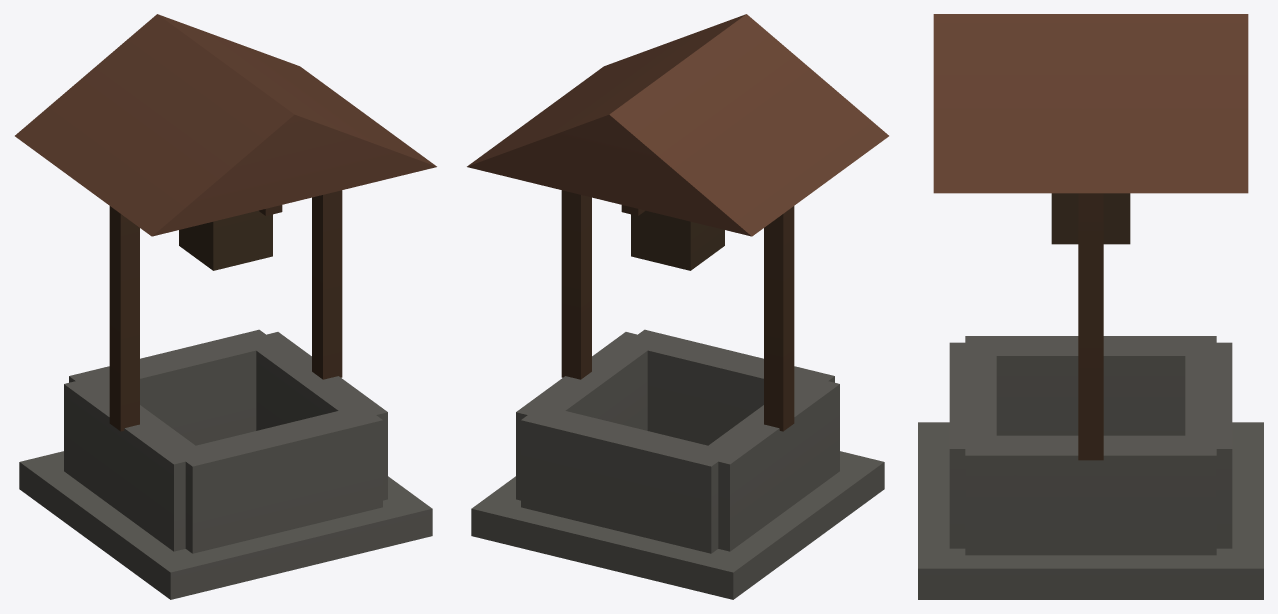
The model's file is town_well.glb.
The picture shows the model from 3 angles, left to right: view 1: azimuth 30°, elevation 25°; view 2: azimuth 150°, elevation 25°; view 3: azimuth 270°, elevation 25°; orthographic projection. The views are drawn at different scales.
Visible parts, largest first — view 1: prop; view 2: prop; view 3: prop.
Boxes of the visible parts, left/top/right/bottom form: prop: left=15, top=14, right=436, bottom=599; prop: left=467, top=14, right=888, bottom=599; prop: left=918, top=14, right=1263, bottom=599.
Size of the model in its own units: 2.4 by 3.6 by 2.2.
